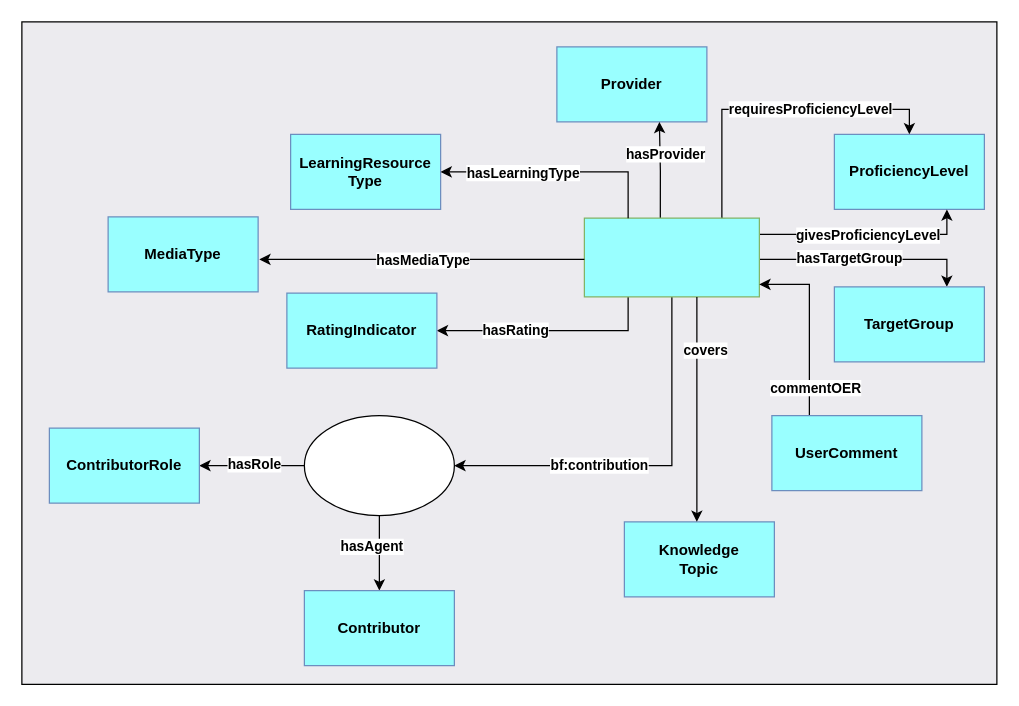
This 1019x706 diagram has some shape labels left out. The shapes that lost their labels are listed below. From the top down, each one's centre as x and y in pixels, then its label:
point 671,257: Educational Resource
point 378,465: Contribution
